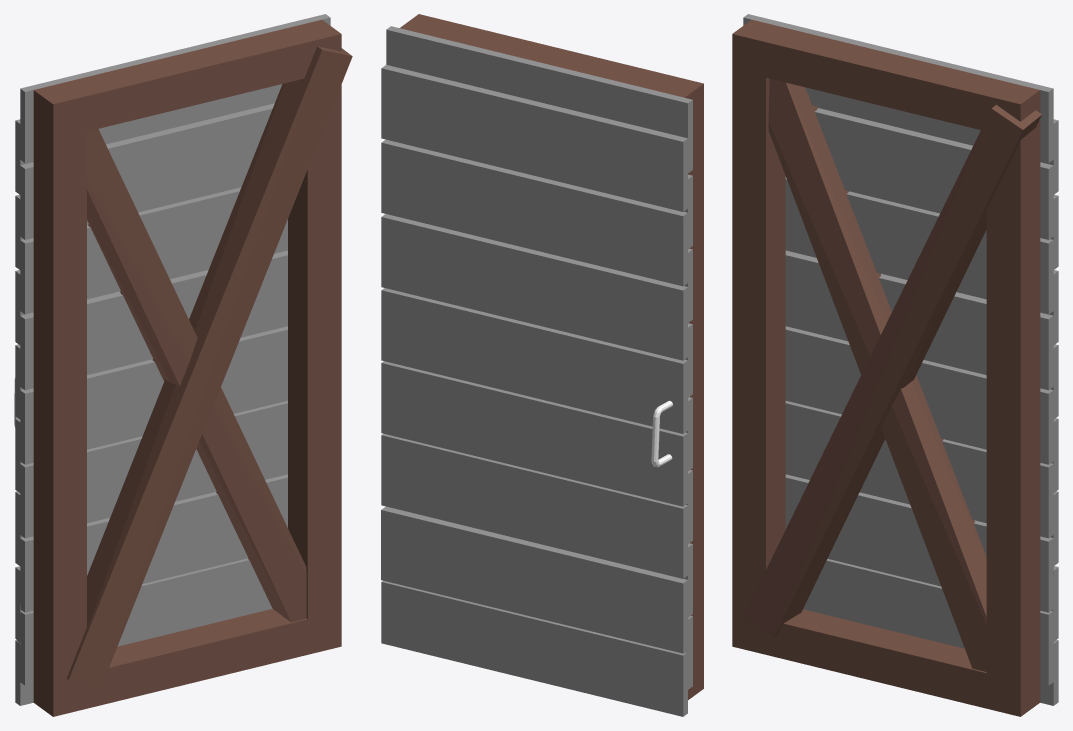
The model's file is Tür Barn3.fbx.
3 renders of one model, left to right at view 1: azimuth 30°, elevation 25°; view 2: azimuth 150°, elevation 25°; view 3: azimuth 330°, elevation 25°, orthographic.
Visible parts, largest first — view 1: mesh_351174359, mesh_1853545165, mesh_1662114372, mesh_641509016, mesh_1473707288, mesh_641092900, mesh_1391792367, mesh_775821075, mesh_2013065894, mesh_1908463161, mesh_222923054, mesh_1255130872 (+4 smaller); view 2: mesh_1592105232, mesh_605431846, mesh_1858566479, mesh_621093808, mesh_98182082, mesh_136661495, mesh_296205749, mesh_733087214, mesh_76978696, mesh_1853545165, mesh_1473707288, group_576281752; view 3: mesh_1662114372, mesh_351174359, mesh_1853545165, mesh_641509016, mesh_1473707288, mesh_1391792367, mesh_641092900, mesh_775821075, mesh_2013065894, mesh_1908463161, mesh_1112336682, mesh_222923054 (+4 smaller).
Boxes of the visible parts, x1,y1,x2,y2 form: mesh_351174359: (67, 46, 352, 686); mesh_1853545165: (33, 126, 86, 716); mesh_1662114372: (288, 85, 341, 654); mesh_641509016: (87, 129, 306, 622); mesh_1473707288: (33, 19, 341, 139); mesh_641092900: (20, 103, 274, 239); mesh_1391792367: (87, 609, 307, 708); mesh_775821075: (20, 326, 287, 464); mesh_2013065894: (20, 558, 272, 685); mesh_1908463161: (20, 250, 287, 390); mesh_222923054: (20, 187, 287, 314); mesh_1255130872: (20, 400, 287, 538); mesh_1592105232: (381, 506, 688, 653); mesh_605431846: (381, 64, 687, 211); mesh_1858566479: (381, 139, 687, 286); mesh_621093808: (381, 214, 687, 360); mesh_98182082: (381, 288, 687, 433); mesh_136661495: (381, 433, 687, 578); mesh_296205749: (381, 361, 687, 506); mesh_733087214: (381, 580, 687, 716); mesh_76978696: (386, 26, 692, 172); mesh_1853545165: (688, 119, 703, 699); mesh_1473707288: (399, 14, 703, 126); group_576281752: (651, 400, 672, 467); mesh_1662114372: (986, 126, 1040, 716); mesh_351174359: (744, 105, 1041, 637); mesh_1853545165: (732, 69, 785, 654); mesh_641509016: (768, 79, 986, 671); mesh_1473707288: (732, 19, 1040, 135); mesh_1391792367: (766, 609, 986, 708); mesh_641092900: (815, 108, 1053, 239); mesh_775821075: (785, 326, 1053, 464); mesh_2013065894: (803, 559, 1053, 685); mesh_1908463161: (785, 250, 1053, 390); mesh_1112336682: (785, 474, 1053, 612); mesh_222923054: (785, 176, 1053, 314).
Bounding box in the file's own units: 36.02 × 69.55 × 10.01.
